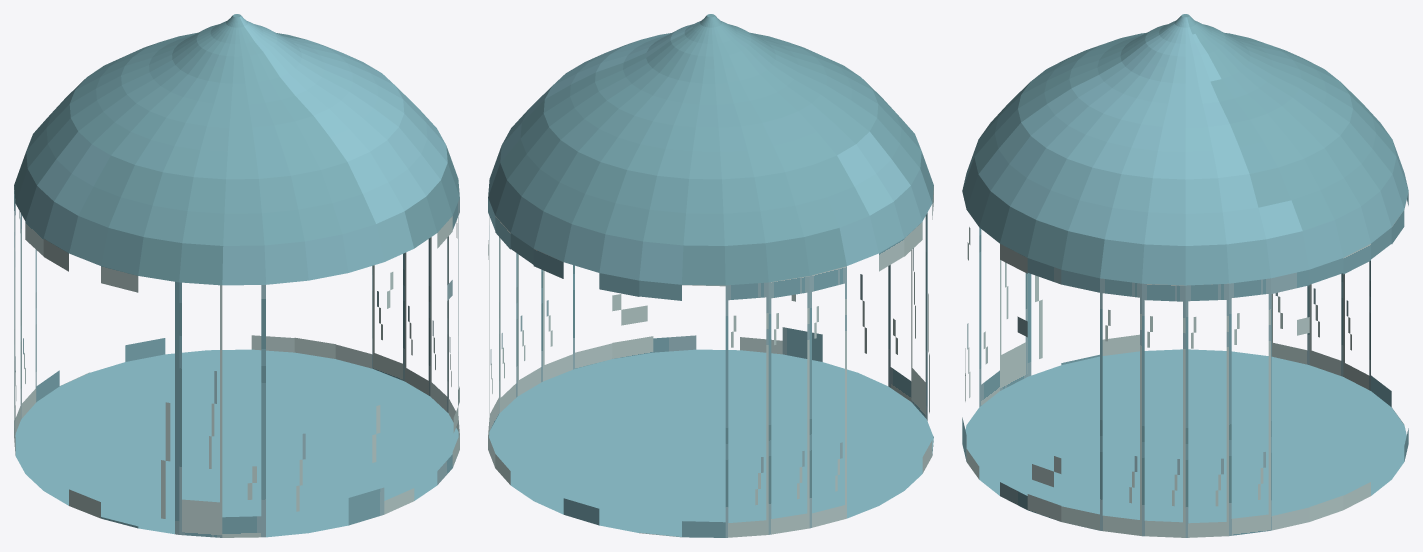
Rendered from AviarioVidrio.obj.
3 renders of one model, left to right at view 1: azimuth 30°, elevation 25°; view 2: azimuth 150°, elevation 25°; view 3: azimuth 270°, elevation 25°, orthographic.
Visible parts, largest first — view 1: basejaula.180; view 2: basejaula.180; view 3: basejaula.180.
Part boxes in pixels (x1,y1,x2,y2): basejaula.180: [14, 14, 459, 537]; basejaula.180: [488, 14, 933, 537]; basejaula.180: [962, 14, 1408, 537].
Size of the model in its own units: 3.96 by 4.19 by 3.96.
Materials: 1 (1 with a texture image).
